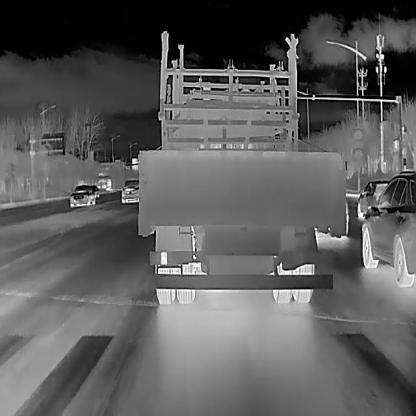car: (136, 79, 347, 306), (360, 168, 415, 286), (357, 178, 391, 219), (67, 183, 95, 206), (120, 176, 141, 205)
